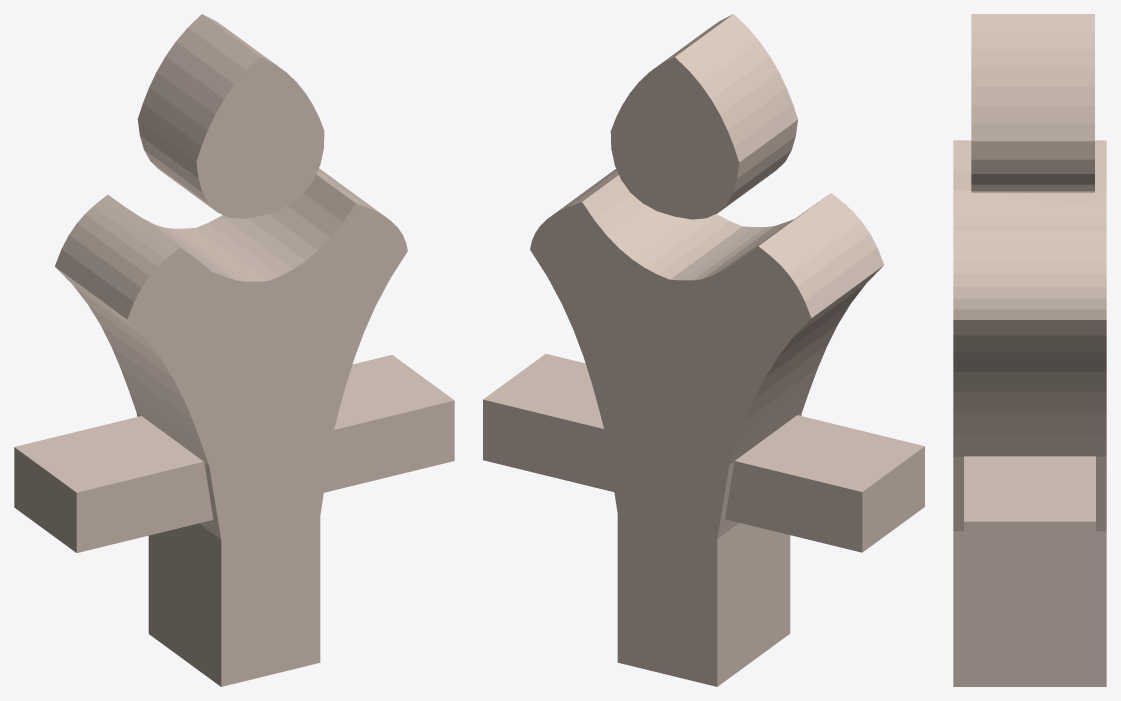
The model's file is fence5.fbx.
The picture shows the model from 3 angles, left to right: view 1: azimuth 30°, elevation 25°; view 2: azimuth 150°, elevation 25°; view 3: azimuth 270°, elevation 25°; orthographic projection. The views are drawn at different scales.
Parts seen in each view (by area): view 1: Line015.001; view 2: Line015.001; view 3: Line015.001.
Part boxes in pixels (x1,y1,x2,y2): Line015.001: (14,14,454,686); Line015.001: (483,14,924,686); Line015.001: (953,14,1106,686).
Size of the model in its own units: 152 by 235 by 50.44.
